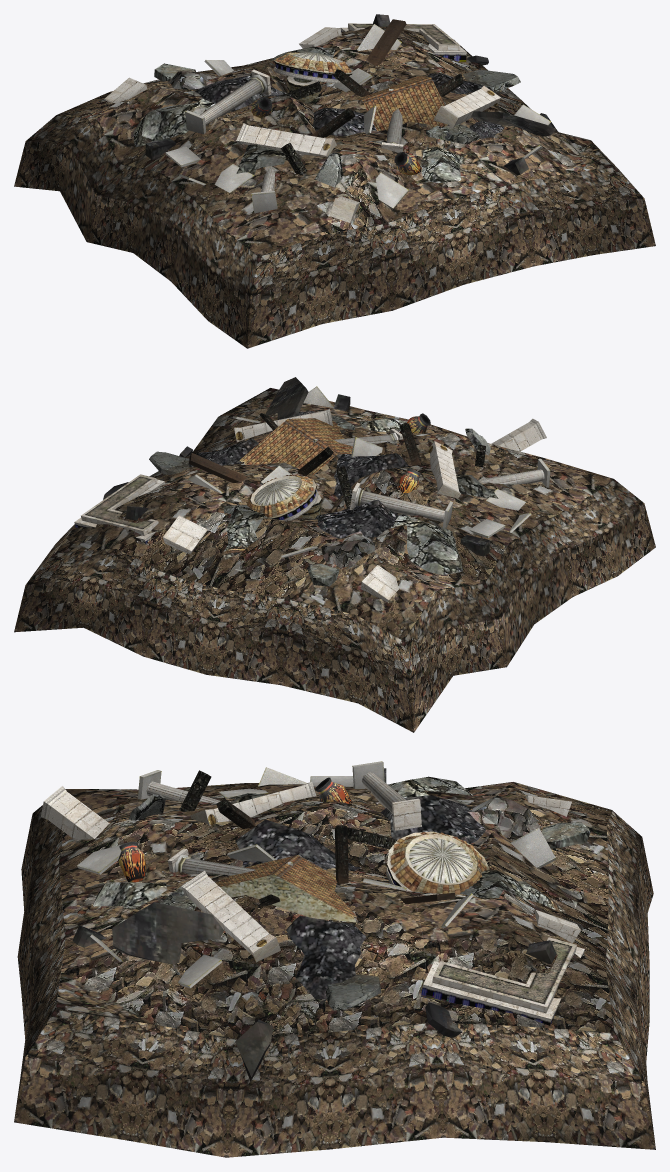
The model's file is rubble_hele_cc.glb.
3 views of the same model, one above another, from view 1: azimuth 30°, elevation 25°; view 2: azimuth 150°, elevation 25°; view 3: azimuth 270°, elevation 25° (orthographic). The views are drawn at different scales.
Parts seen in each view (by area): view 1: rubble_hele_cc_part0, rubble_hele_cc_part1, rubble_hele_cc_part3, rubble_hele_cc_part2, rubble_hele_cc_part4; view 2: rubble_hele_cc_part0, rubble_hele_cc_part1, rubble_hele_cc_part2, rubble_hele_cc_part4, rubble_hele_cc_part3; view 3: rubble_hele_cc_part0, rubble_hele_cc_part1, rubble_hele_cc_part4, rubble_hele_cc_part2, rubble_hele_cc_part3.
Boxes of the visible parts, x1,y1,x2,y2 form: rubble_hele_cc_part0: (14, 14, 655, 348); rubble_hele_cc_part1: (104, 23, 501, 222); rubble_hele_cc_part3: (165, 24, 550, 213); rubble_hele_cc_part2: (274, 52, 449, 131); rubble_hele_cc_part4: (199, 23, 459, 191); rubble_hele_cc_part0: (14, 377, 655, 732); rubble_hele_cc_part1: (74, 408, 546, 601); rubble_hele_cc_part2: (237, 418, 352, 519); rubble_hele_cc_part4: (81, 413, 544, 531); rubble_hele_cc_part3: (188, 386, 550, 557); rubble_hele_cc_part0: (14, 768, 655, 1157); rubble_hele_cc_part1: (41, 781, 584, 1025); rubble_hele_cc_part4: (118, 772, 576, 1007); rubble_hele_cc_part2: (185, 832, 486, 922); rubble_hele_cc_part3: (77, 761, 556, 988).
Size of the model in its own units: 6.61 by 2.3 by 6.53.
5 materials, 5 textured.
